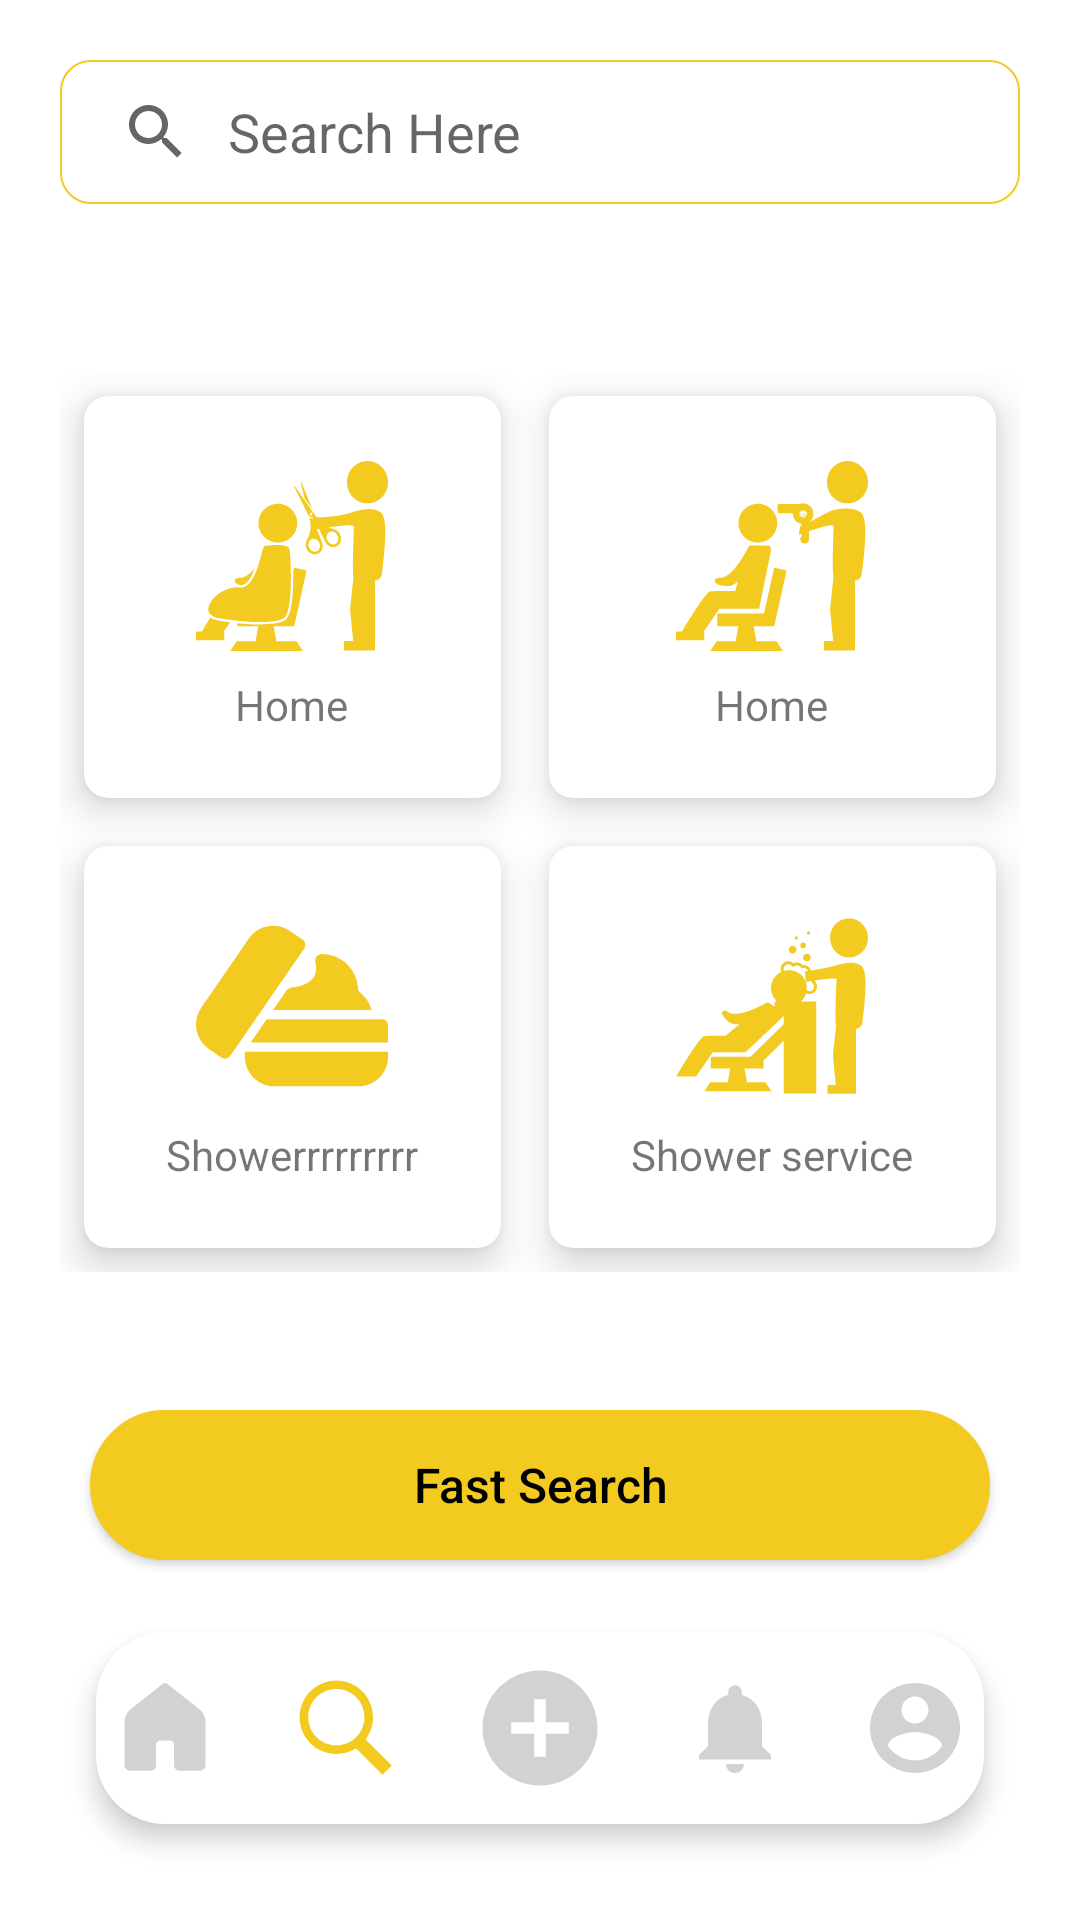

Named icons in this screenshot (1080px x 1920px) and their bounding boxes, (x1, y1, x2, y2):
account circle: (870, 1683, 960, 1773)
accueil: (125, 1683, 205, 1771)
add circle: (483, 1671, 597, 1785)
chercher: (299, 1680, 392, 1775)
cream: (196, 925, 388, 1087)
hairdresser scissors cutting: (196, 461, 388, 651)
hairdresser shampoo: (676, 918, 868, 1094)
notifications: (699, 1685, 771, 1773)
